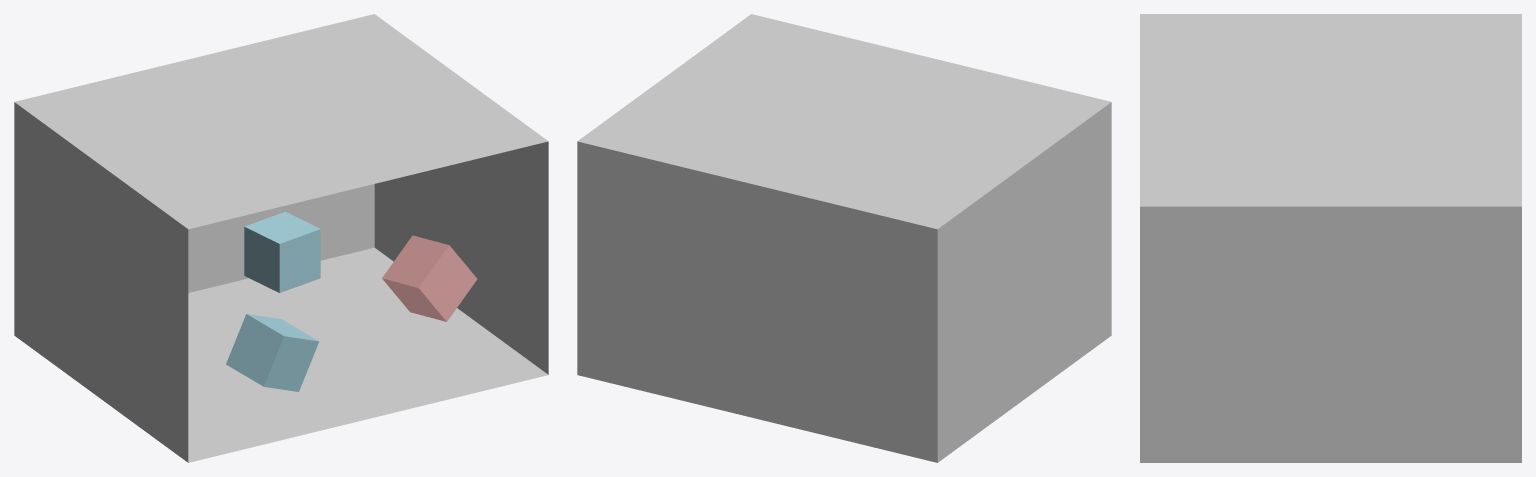
Rendered from portalView.glb.
3 views of the same model, side by side, from view 1: azimuth 30°, elevation 25°; view 2: azimuth 150°, elevation 25°; view 3: azimuth 270°, elevation 25° (orthographic). The views are drawn at different scales.
Visible parts, largest first — view 1: Cube, Cube.005, Cube.001, Cube.003; view 2: Cube; view 3: Cube.
Part boxes in pixels (x1,y1,x2,y2): Cube: (14,14,548,462); Cube.005: (382,235,477,321); Cube.001: (244,211,320,292); Cube.003: (226,314,319,391); Cube: (577,14,1111,462); Cube: (1140,14,1521,462).
Size of the model in its own units: 4.95 by 3.07 by 4.14.
